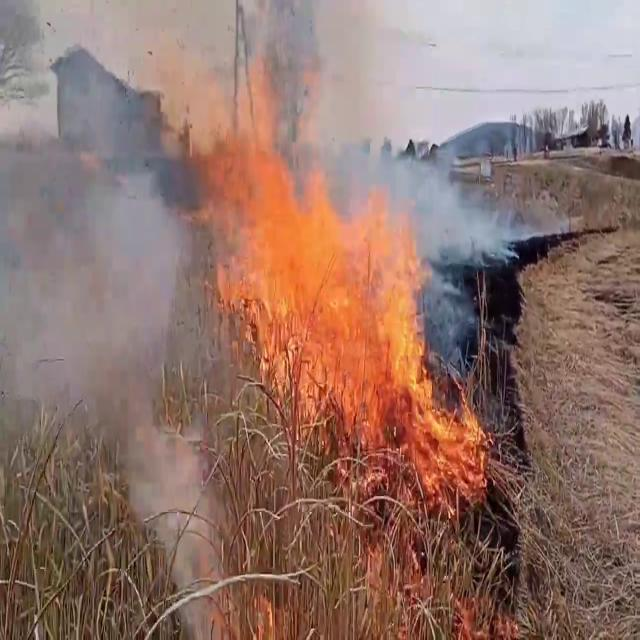Fire: (208, 62, 490, 500)
Smoke: (0, 8, 244, 606), (366, 147, 520, 272)
